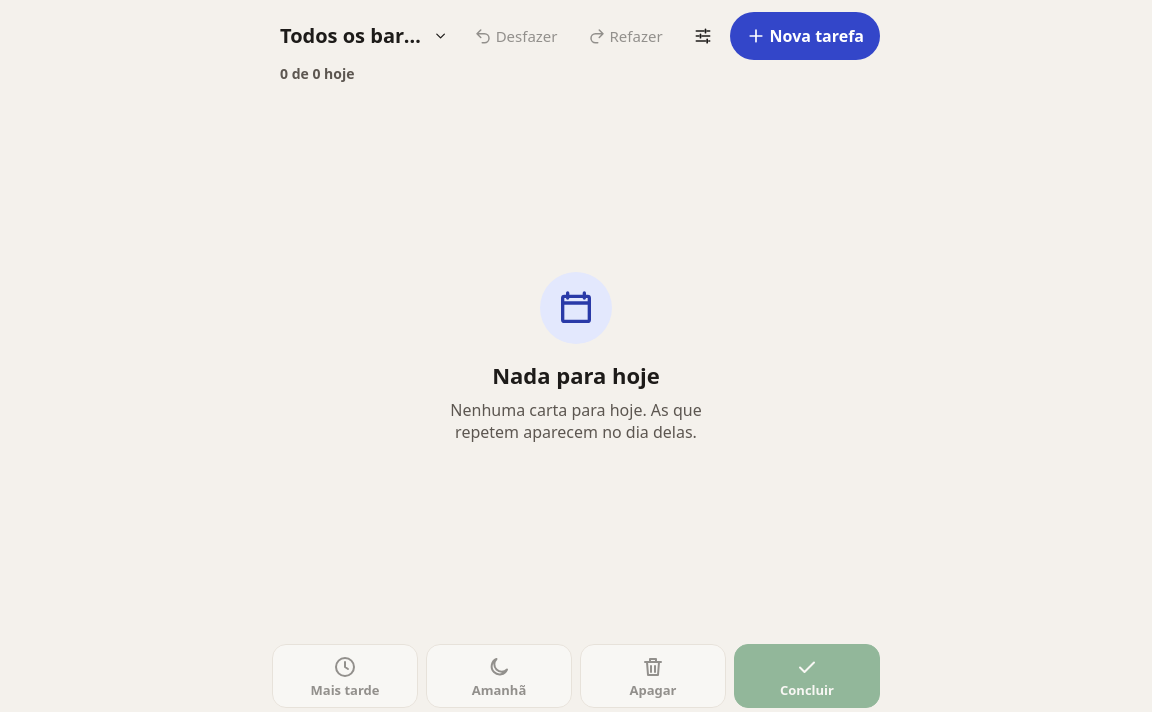
Scenario: Settings > Appearance › lists every theme by name with a 3-colour swatch painted by that theme
Click the button named "Configurações" at (703, 36), box top-left (680, 12), bottom-right (726, 60)
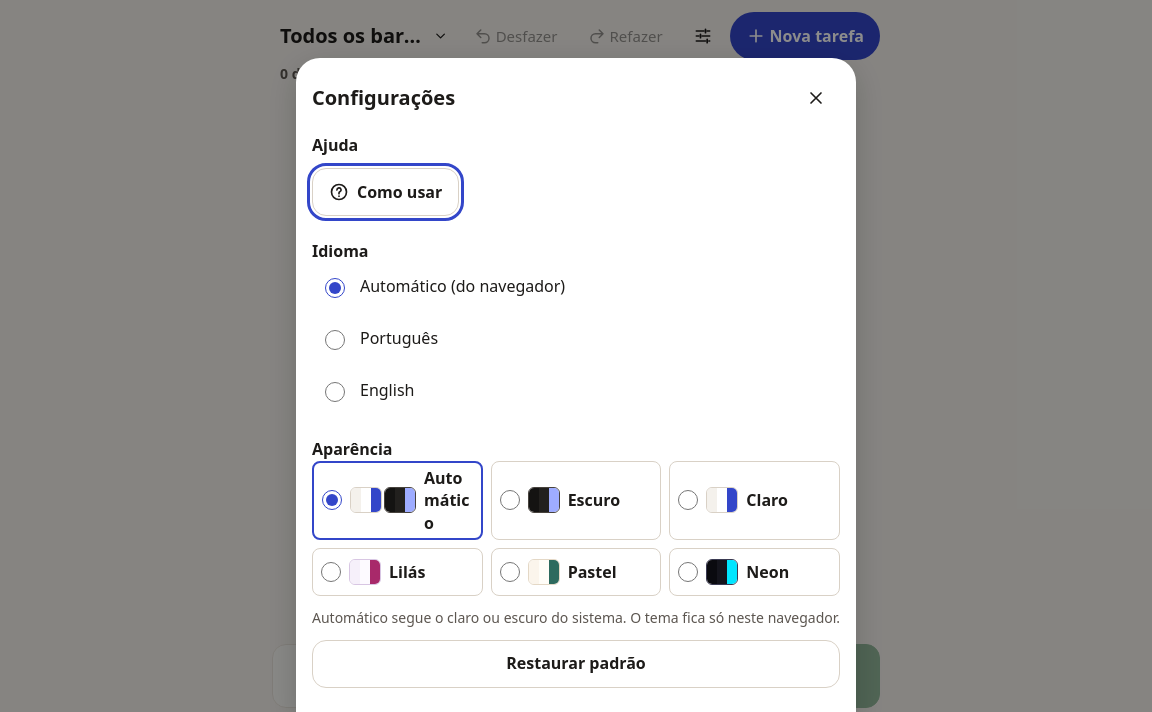
Expected: the radio button labelled "Automático" is checked, top-left (322, 490), bottom-right (342, 510)
